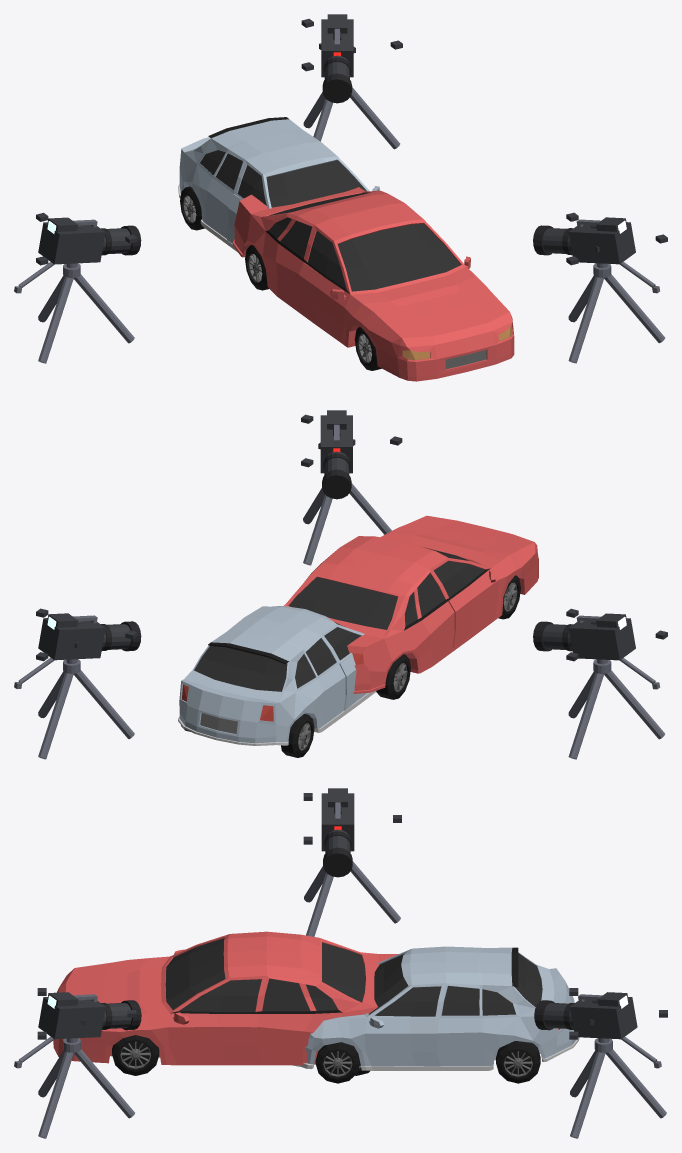
The model's file is hero-vaultcam.glb.
The picture shows the model from 3 angles, top to bottom: view 1: azimuth 30°, elevation 25°; view 2: azimuth 150°, elevation 25°; view 3: azimuth 270°, elevation 25°; orthographic projection.
Visible parts, largest first — view 1: Car2, Car1, TVCam2_head, TVCam1_head, TVCam0_head, TVCam2_tripod, TVCam1_tripod, TVCam0_tripod; view 2: Car2, Car1, TVCam1_head, TVCam0_head, TVCam2_head, TVCam0_tripod, TVCam1_tripod, TVCam2_tripod; view 3: Car2, Car1, TVCam0_head, TVCam2_head, TVCam1_head, TVCam2_tripod, TVCam0_tripod, TVCam1_tripod.
Part boxes in pixels (x1=…): Car2: x1=233, y1=187, x2=514, y2=381; Car1: x1=178, y1=117, x2=379, y2=257; TVCam2_head: x1=533, y1=217, x2=659, y2=293; TVCam1_head: x1=14, y1=217, x2=141, y2=293; TVCam0_head: x1=321, y1=14, x2=353, y2=103; TVCam2_tripod: x1=566, y1=212, x2=667, y2=363; TVCam1_tripod: x1=36, y1=212, x2=137, y2=363; TVCam0_tripod: x1=301, y1=18, x2=402, y2=149; Car2: x1=283, y1=515, x2=538, y2=699; Car1: x1=178, y1=606, x2=376, y2=757; TVCam1_head: x1=533, y1=613, x2=659, y2=689; TVCam0_head: x1=14, y1=613, x2=141, y2=688; TVCam2_head: x1=320, y1=410, x2=352, y2=499; TVCam0_tripod: x1=36, y1=608, x2=137, y2=759; TVCam1_tripod: x1=566, y1=608, x2=667, y2=759; TVCam2_tripod: x1=301, y1=414, x2=402, y2=565; Car2: x1=53, y1=931, x2=398, y2=1075; Car1: x1=292, y1=946, x2=579, y2=1083; TVCam0_head: x1=534, y1=992, x2=661, y2=1068; TVCam2_head: x1=14, y1=992, x2=141, y2=1068; TVCam1_head: x1=321, y1=788, x2=354, y2=877; TVCam2_tripod: x1=37, y1=988, x2=136, y2=1138; TVCam0_tripod: x1=569, y1=988, x2=667, y2=1138; TVCam1_tripod: x1=303, y1=793, x2=401, y2=936.
Size of the model in its own units: 3.22 by 0.7863 by 3.62.
